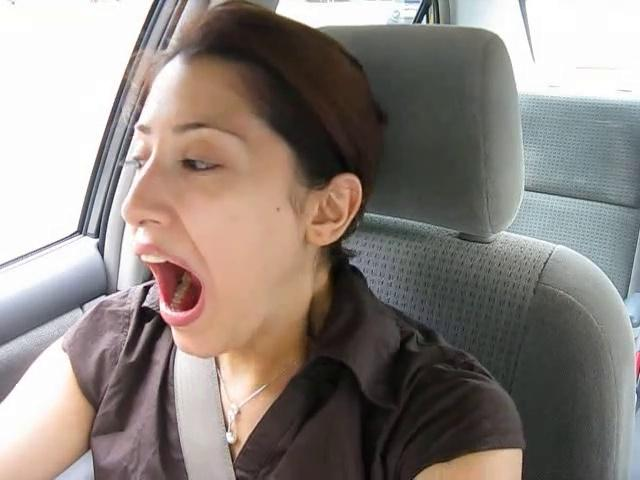close_eyeL: (116, 141, 160, 178)
close_eyeR: (167, 144, 237, 187)
yawn: (126, 252, 231, 333)
